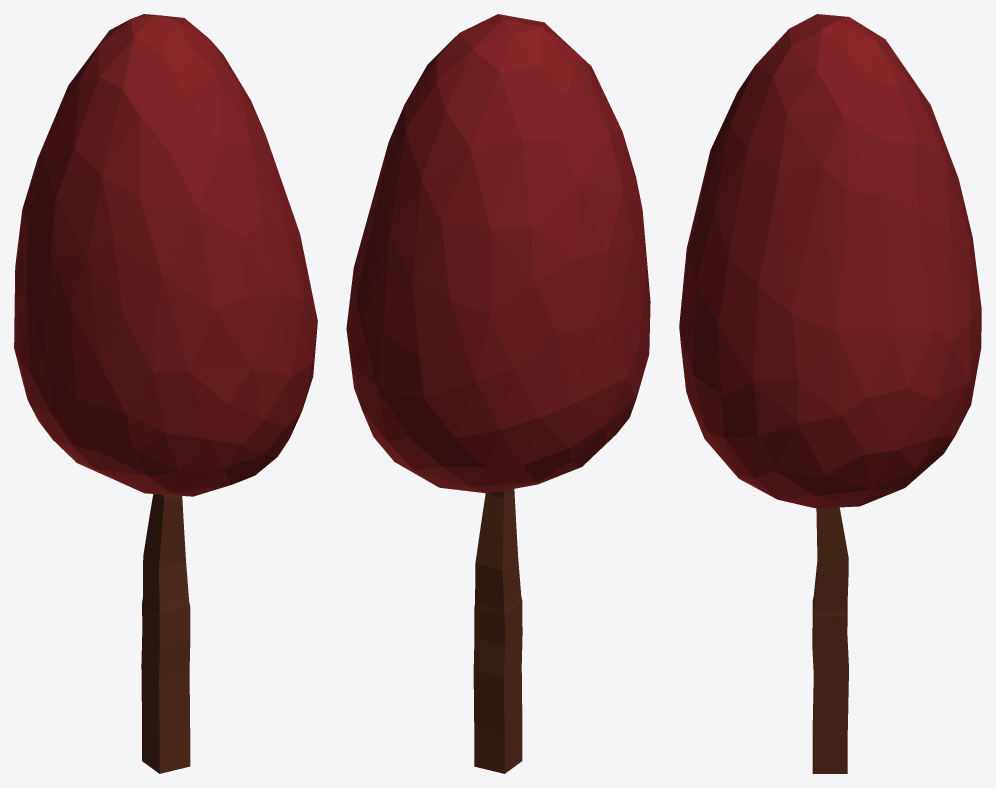
The model's file is BlobTreeRed.fbx.
3 views of the same model, side by side, from view 1: azimuth 30°, elevation 25°; view 2: azimuth 150°, elevation 25°; view 3: azimuth 270°, elevation 25° (orthographic).
Visible parts, largest first — view 1: Plane; view 2: Plane; view 3: Plane.
Boxes of the visible parts, box(x1,y1,x2,y2) form: Plane: box(14, 14, 317, 773); Plane: box(346, 14, 650, 773); Plane: box(679, 14, 981, 773).
Bounding box in the file's own units: 336 × 915 × 338.
